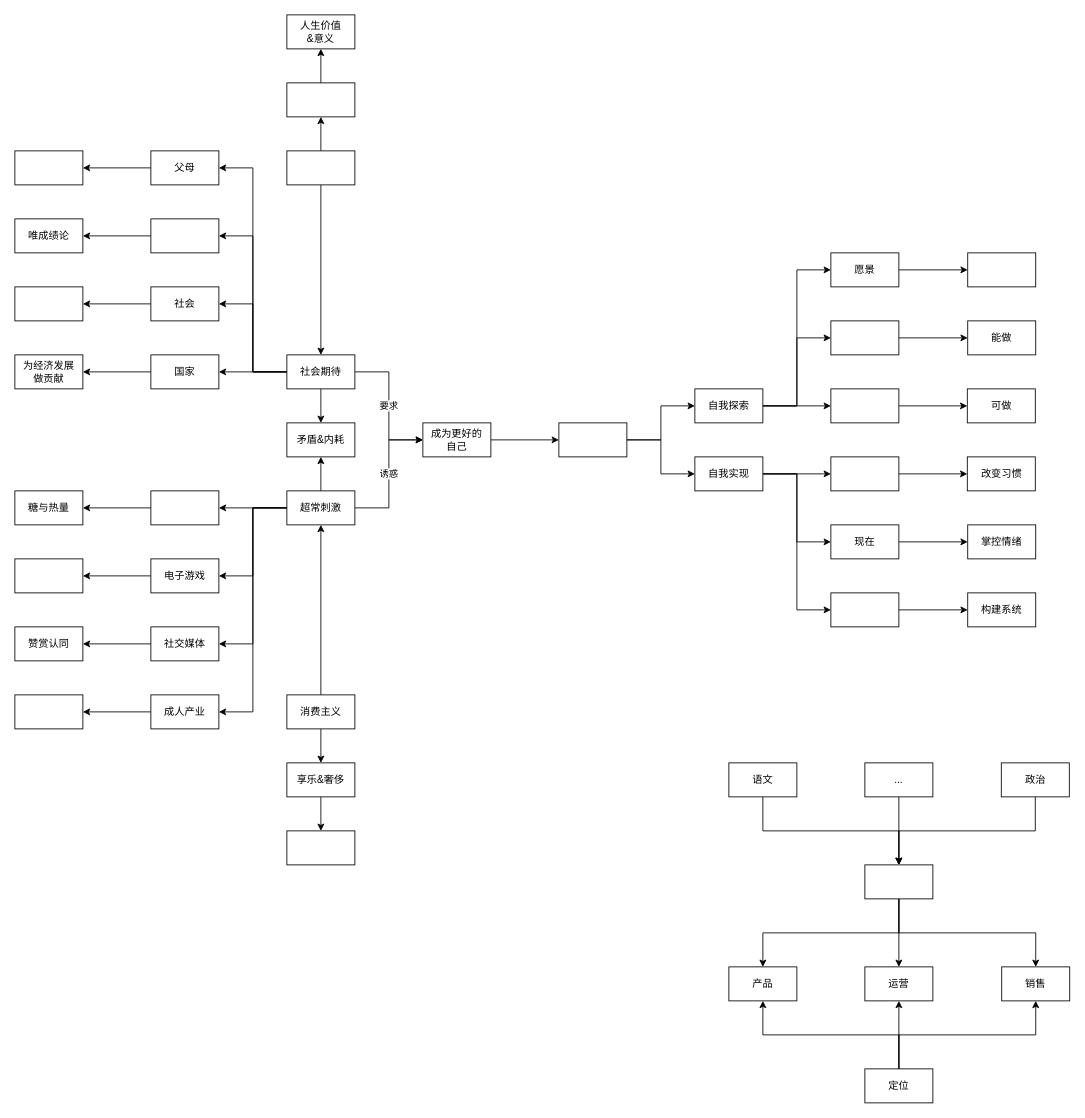
Some shapes in this 1085 by 1118 pixel diagram are drawn without their labels. The box of each missing label's shape, as (x1, y1, x2, y2) in pixels:
专业: (864, 864, 933, 899)
优绩主义: (286, 150, 355, 185)
信念: (830, 388, 899, 423)
及时反馈: (14, 558, 83, 593)
天赋: (830, 320, 899, 355)
好好读书: (14, 150, 83, 185)
学校: (150, 218, 219, 253)
快餐美食: (150, 490, 219, 525)
性与刺激: (14, 694, 83, 729)
想做: (967, 252, 1036, 287)
成绩&成就: (286, 82, 355, 117)
收入=地位: (14, 286, 83, 321)
更好的成为 自己: (558, 422, 627, 457)
未来: (830, 592, 899, 627)
自我实现& 身份认同: (286, 830, 355, 865)
过去: (830, 456, 899, 491)
